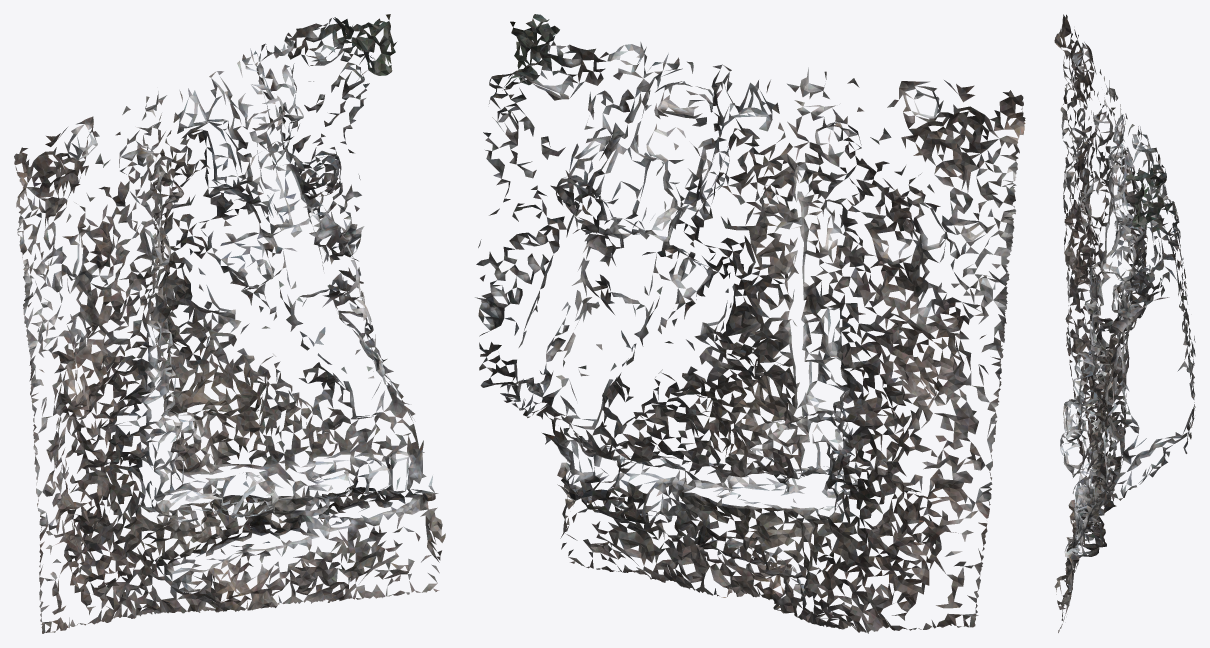
3 renders of one model, left to right at view 1: azimuth 30°, elevation 25°; view 2: azimuth 150°, elevation 25°; view 3: azimuth 270°, elevation 25°, orthographic. The views are drawn at different scales.
Bounding box in the file's own units: 11.45 × 13.85 × 3.91.
Materials: 1 (1 with a texture image).
